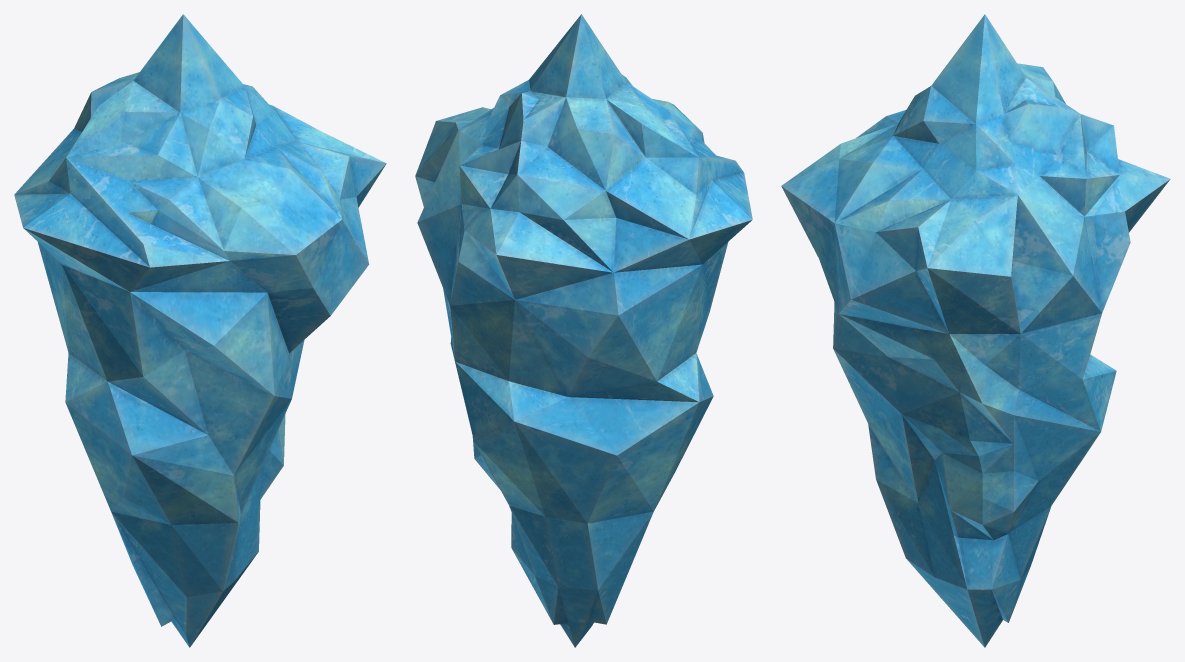
3 views of the same model, side by side, from view 1: azimuth 30°, elevation 25°; view 2: azimuth 150°, elevation 25°; view 3: azimuth 270°, elevation 25° (orthographic).
Visible parts, largest first — view 1: Iceberg; view 2: Iceberg; view 3: Iceberg.
Boxes of the visible parts, left/top/right/bottom form: Iceberg: left=14, top=14, right=386, bottom=647; Iceberg: left=415, top=14, right=752, bottom=647; Iceberg: left=781, top=14, right=1170, bottom=647.
Size of the model in its own units: 1.12 by 2 by 1.12.
1 material, 1 textured.
